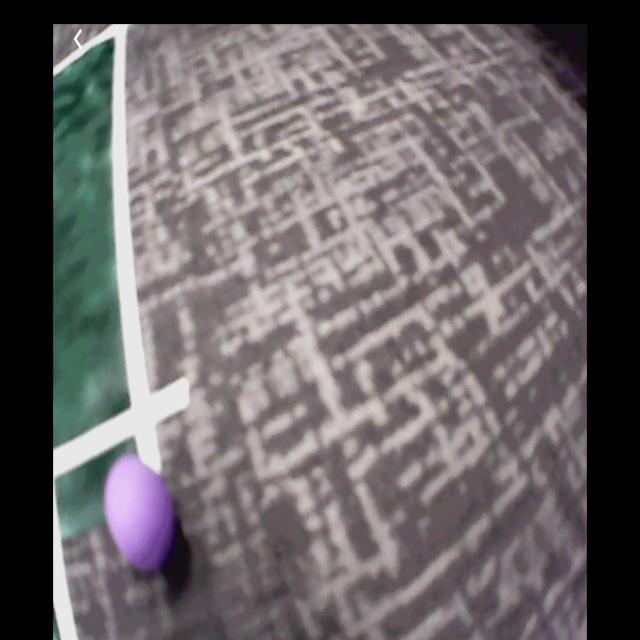ball: (104, 454, 177, 576)
